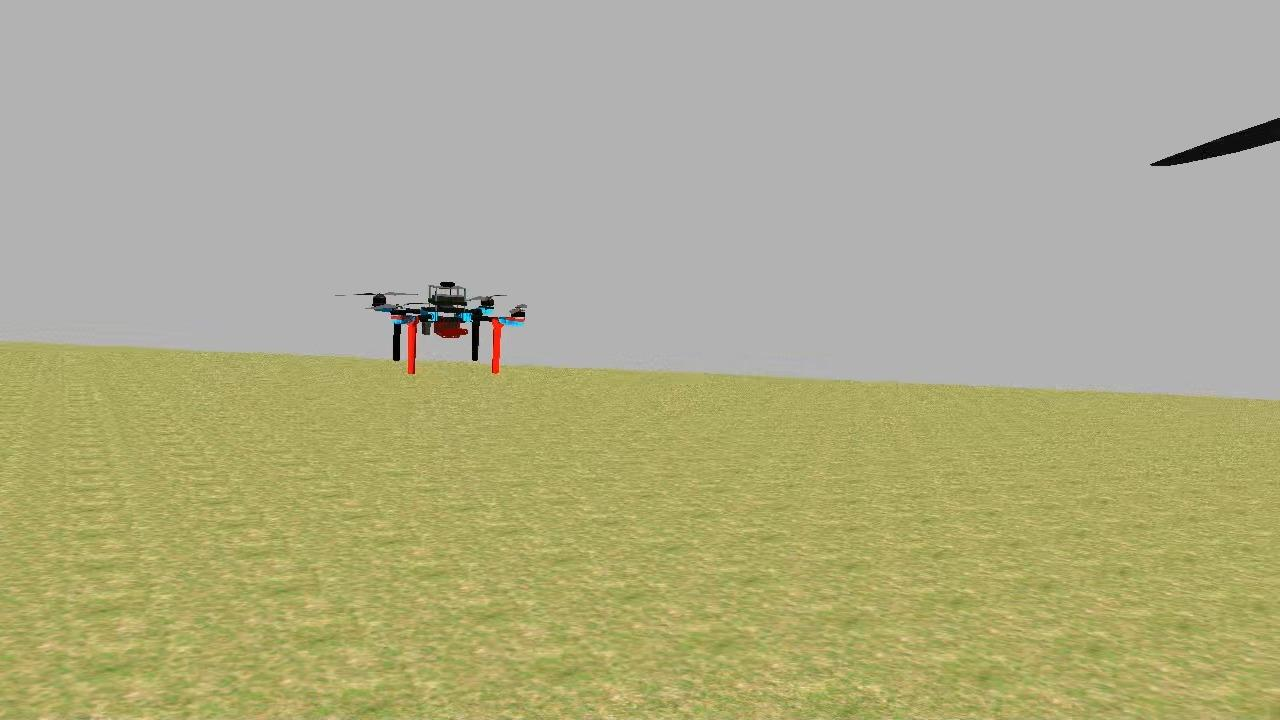UAV: (360, 272, 532, 376)
